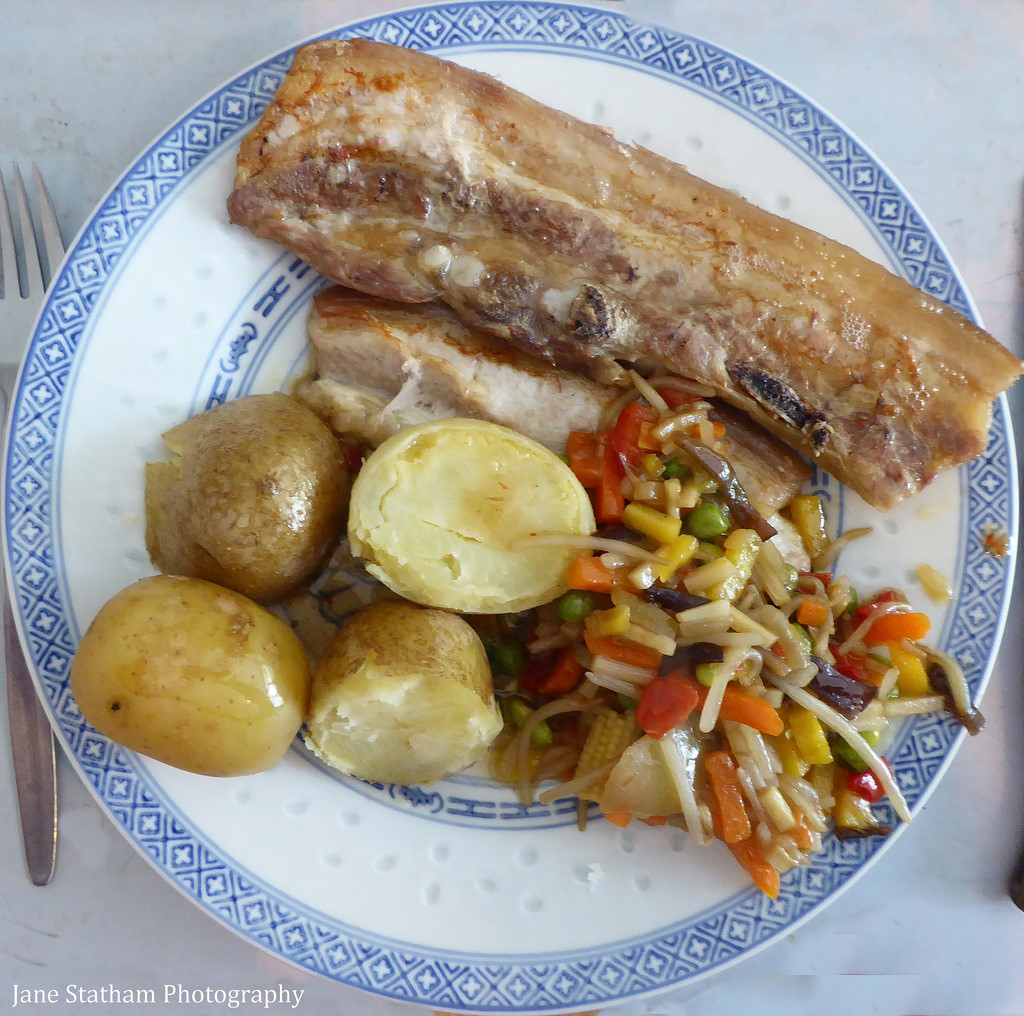boiled potatoes: (68, 579, 324, 774), (353, 431, 590, 609), (153, 406, 353, 602), (319, 599, 507, 782)
